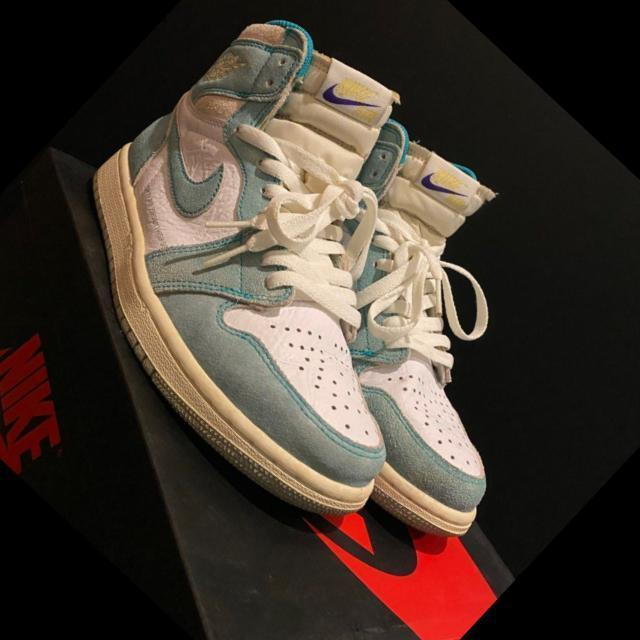nike original jordan 1: (9, 0, 584, 551), (177, 82, 640, 558)
